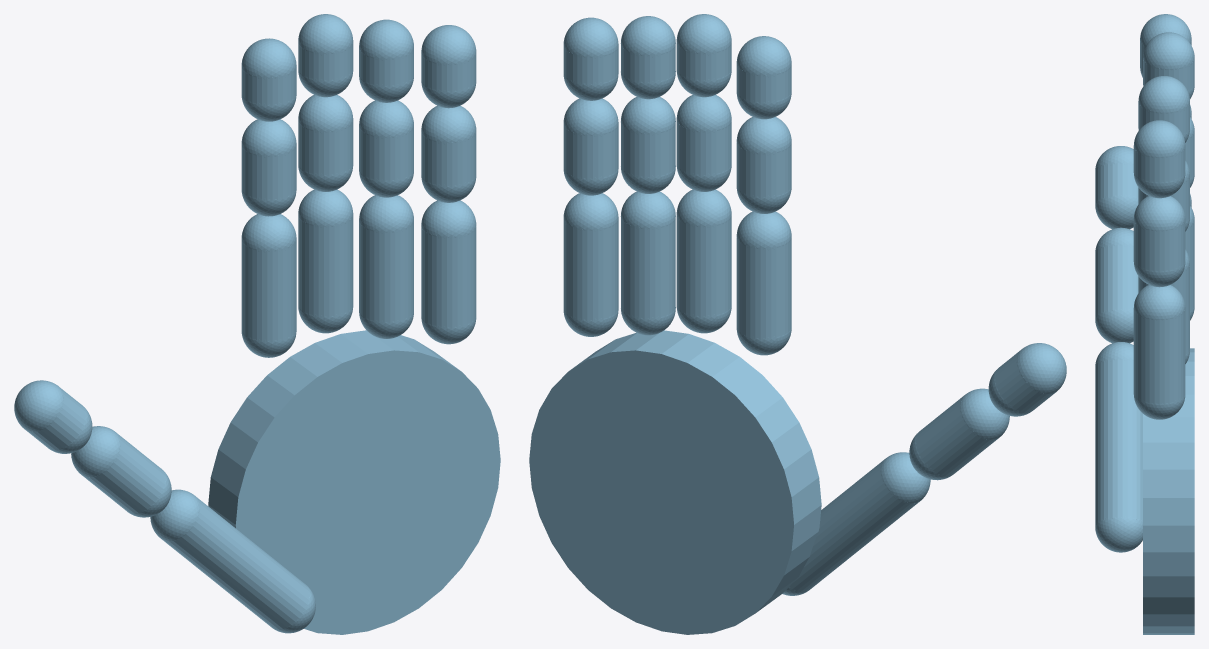
The model's file is sharpa_wave_left_canonical.glb.
3 views of the same model, side by side, from view 1: azimuth 30°, elevation 25°; view 2: azimuth 150°, elevation 25°; view 3: azimuth 270°, elevation 25° (orthographic). The views are drawn at different scales.
Visible parts, largest first — view 1: world; view 2: world; view 3: world.
Part boxes in pixels (<box>): world: <box>14,14,500,634</box>; world: <box>529,14,1066,634</box>; world: <box>1095,14,1194,634</box>.
Bounding box in the file's own units: 0.1721 × 0.2034 × 0.032.
